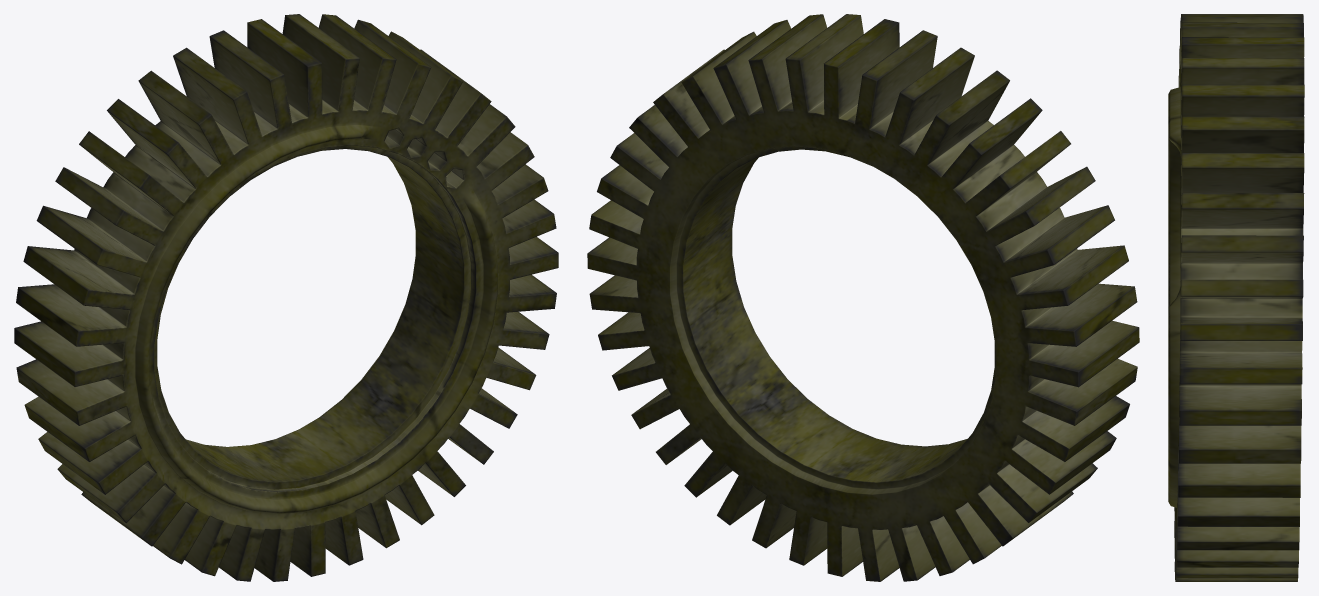
Rendered from maingear2.fbx.
The picture shows the model from 3 angles, left to right: view 1: azimuth 30°, elevation 25°; view 2: azimuth 150°, elevation 25°; view 3: azimuth 270°, elevation 25°; orthographic projection.
Visible parts, largest first — view 1: gear45; view 2: gear45; view 3: gear45.
Boxes of the visible parts, x1,y1,x2,y2 form: gear45: (14,14,558,581); gear45: (587,14,1139,581); gear45: (1168,14,1304,581).
Bounding box in the file's own units: 217 × 217 × 52.08.
1 material, 1 textured.
